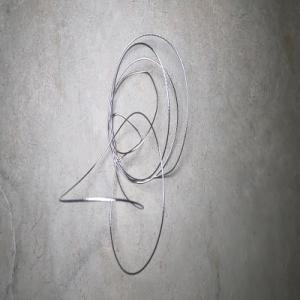Wire: (58, 32, 188, 275)
